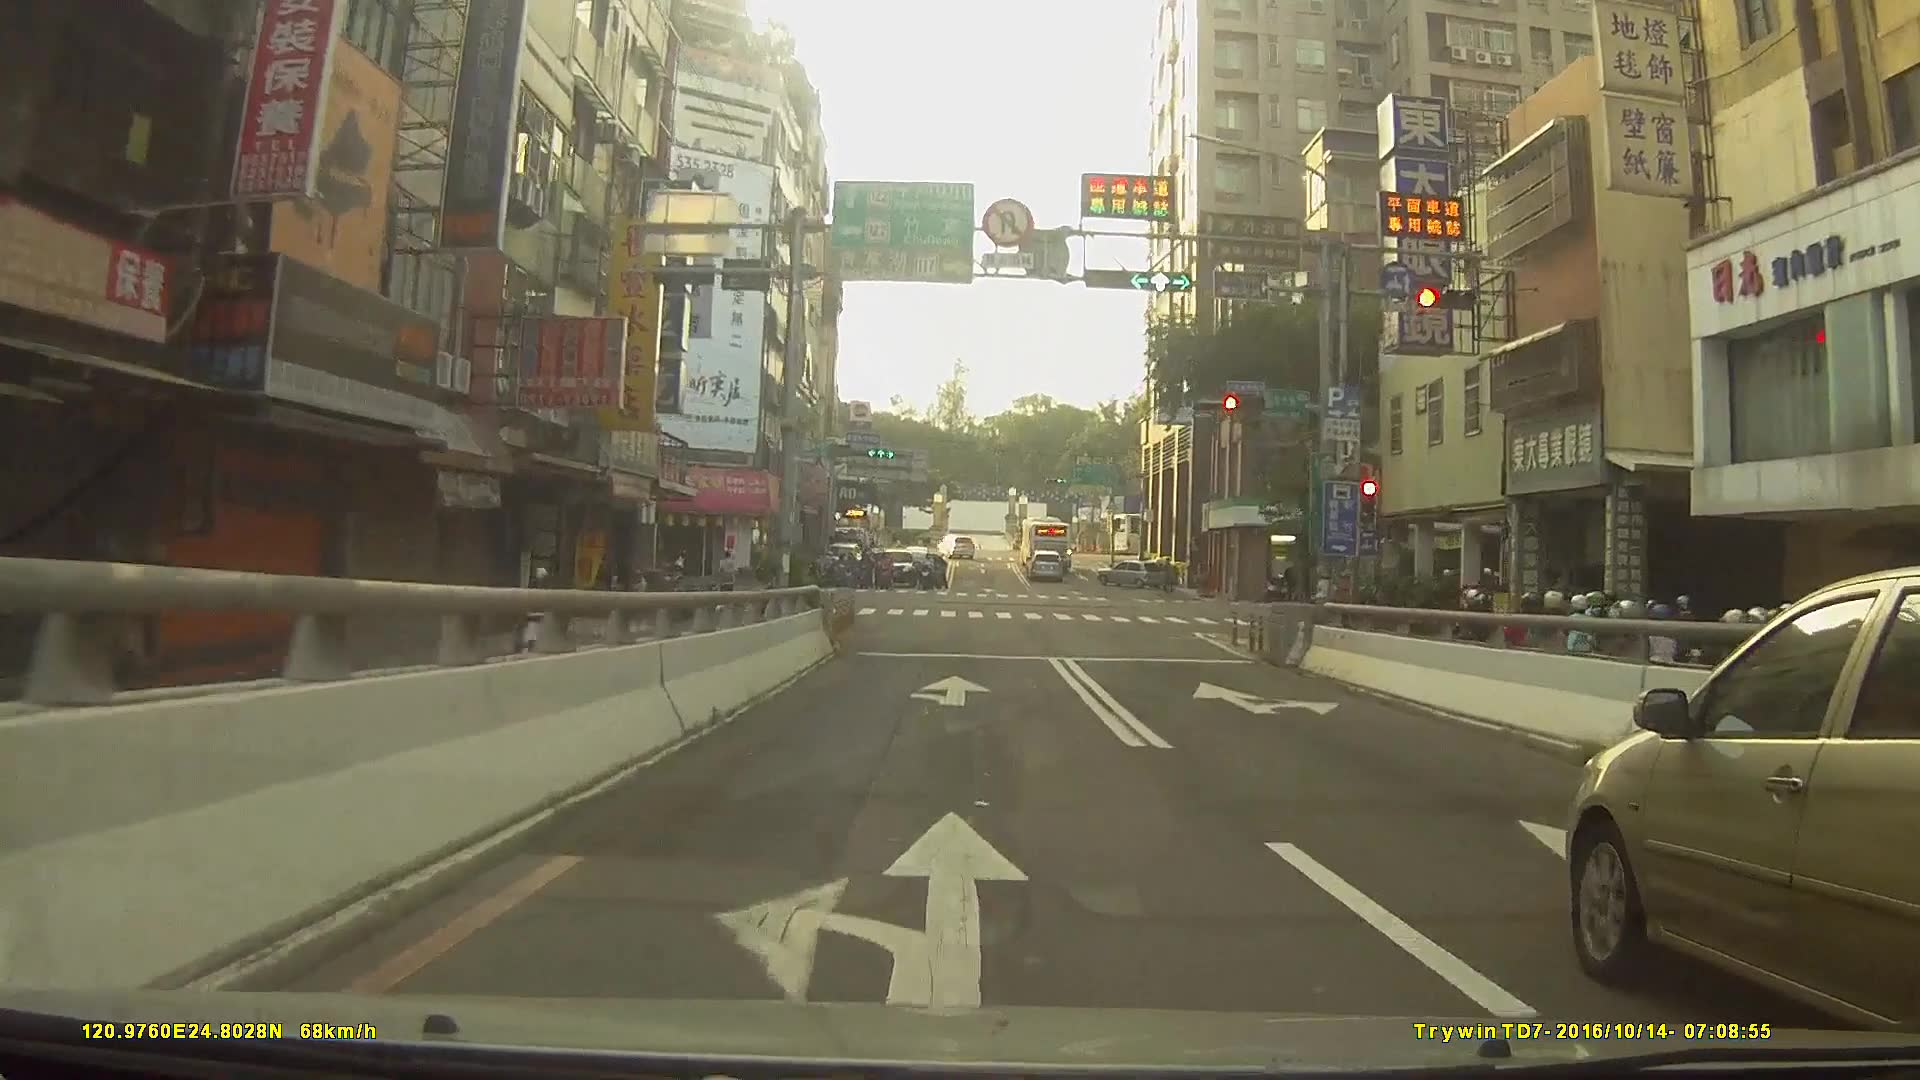pedestrian: (1280, 565, 1302, 607)
rider: (520, 569, 567, 674)
vehicle: (1568, 564, 1920, 1060), (1097, 558, 1172, 592), (1025, 519, 1072, 567), (875, 549, 918, 585), (1029, 548, 1067, 582), (934, 532, 975, 561)
